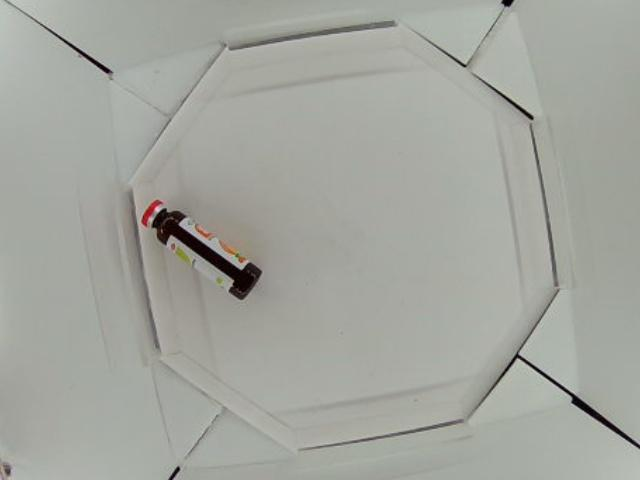Medicine: (141, 199, 262, 302)
